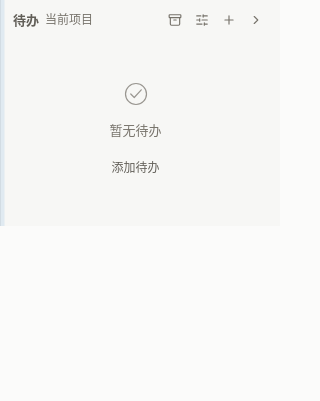
Test: TodoModuleRail › reports a rejected create operation with exactly one visible error notification
Click the button named "新增代办" at (229, 20), box [217,8,242,32]
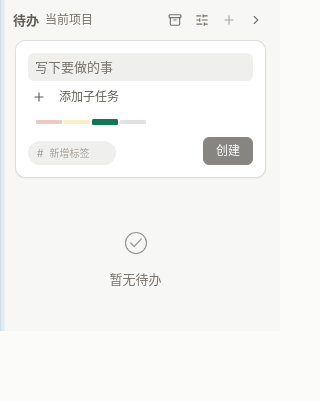
Type "保留失败草稿" into the text box with placeholder "写下要做的事" at (140, 67), box [28,53,253,81]
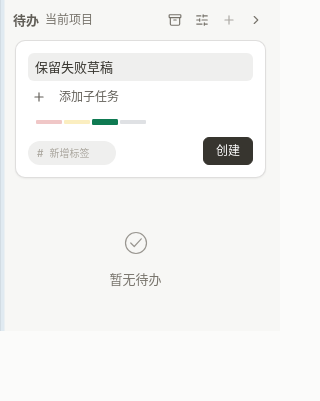
Click the button "创建" at (228, 151), box [203,137,253,165]
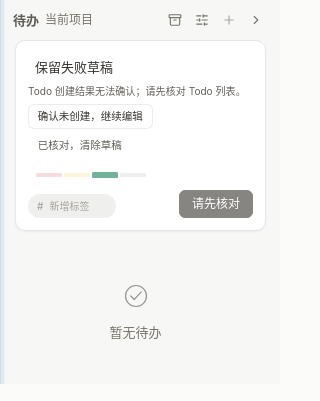
Check: the button "请先核对" is disabled, box [179,190,253,218]
